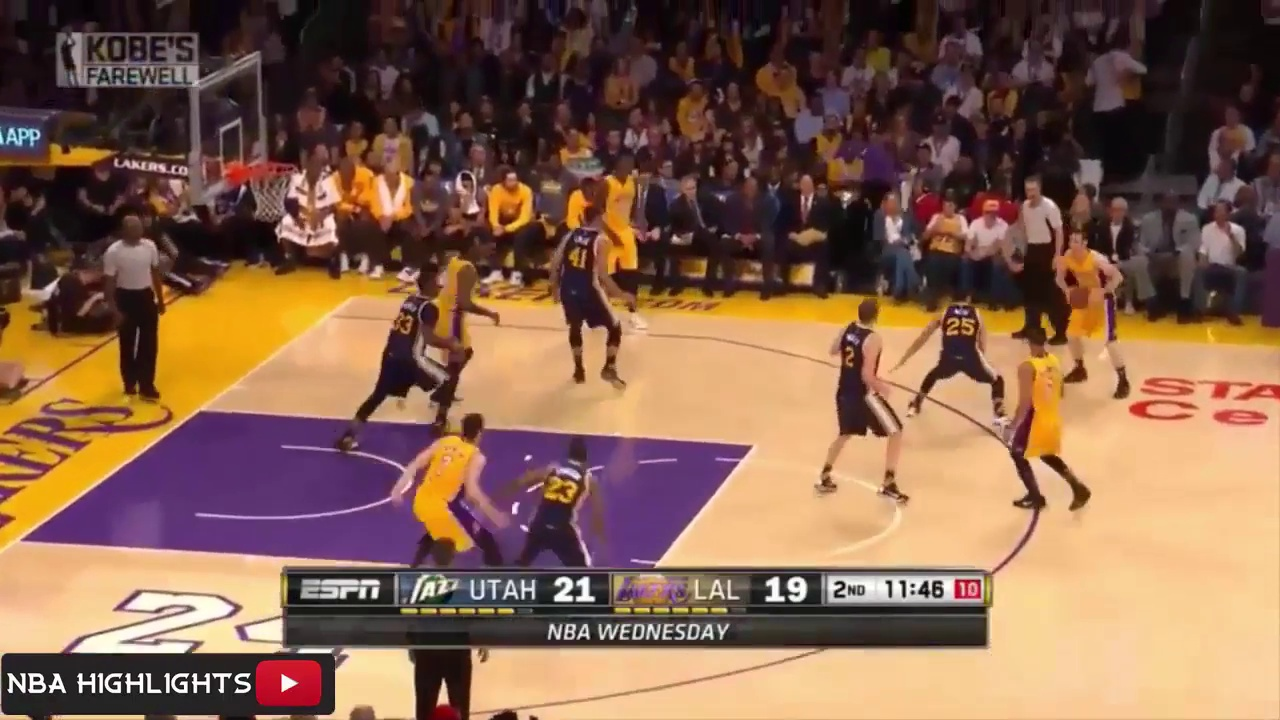jazz: (825, 292, 907, 502), (348, 270, 448, 438), (557, 206, 632, 387), (507, 440, 612, 567), (906, 288, 1002, 422)
lakers: (1007, 332, 1097, 516), (405, 408, 504, 562), (1054, 230, 1140, 398), (439, 234, 500, 394), (604, 157, 639, 329)
